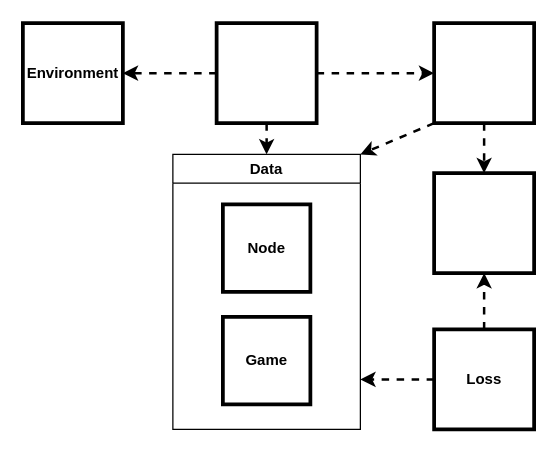
Image size: 558x453. Some labels were removed from this diagram. Here are the shapes that lost their labels. From the top down, the box of each, then its label:
(214, 21, 318, 124): Policy
(432, 21, 535, 124): Planning
(432, 171, 535, 274): Model
